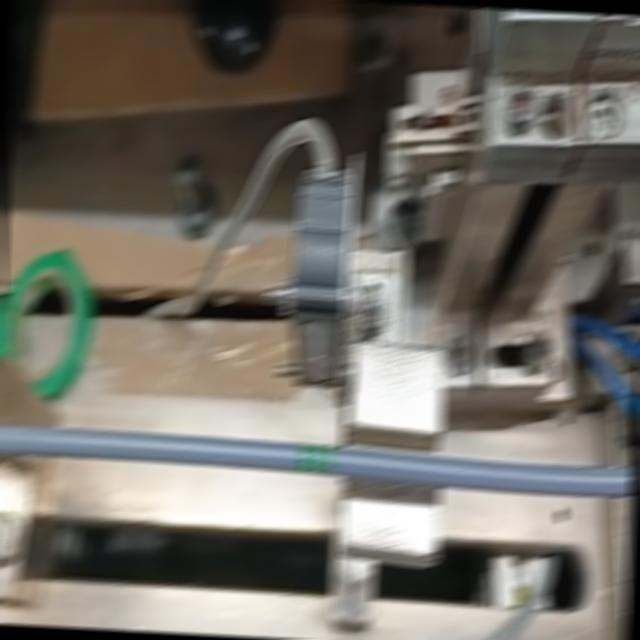green: (295, 441, 334, 476)
